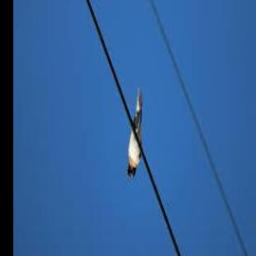Swallow: (127, 88, 144, 180)
